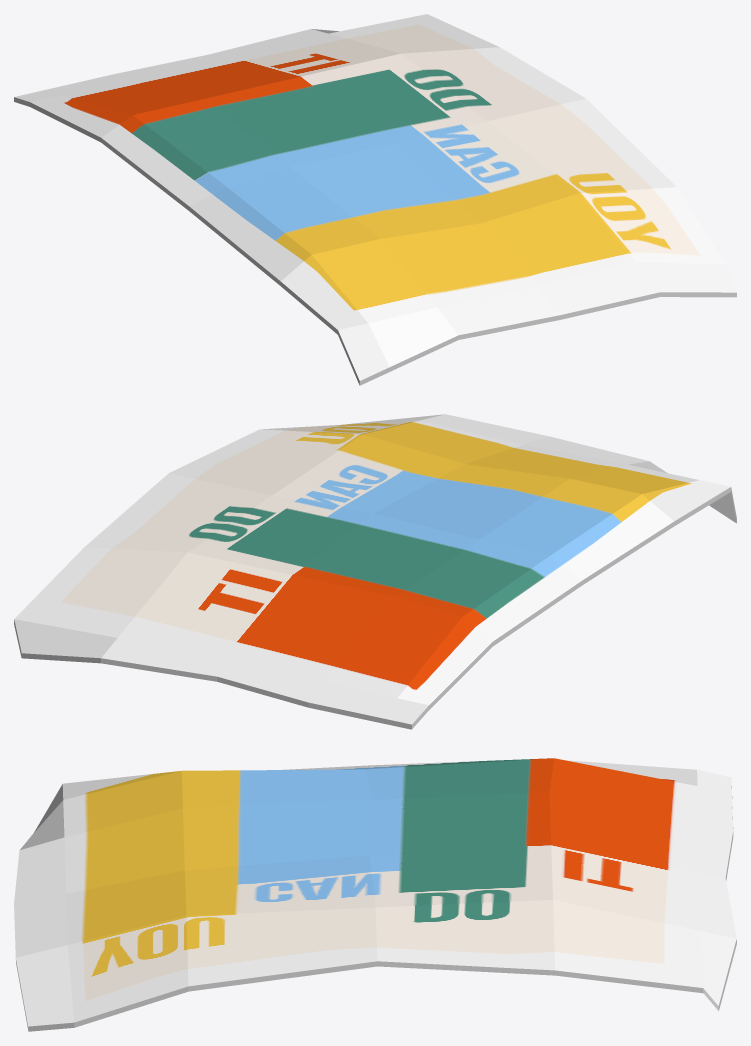
File: poster1.fbx
3 renders of one model, top to bottom at view 1: azimuth 30°, elevation 25°; view 2: azimuth 150°, elevation 25°; view 3: azimuth 270°, elevation 25°, orthographic. The views are drawn at different scales.
Visible parts, largest first — view 1: Plane; view 2: Plane; view 3: Plane.
Boxes of the visible parts, x1,y1,x2,y2 form: Plane: (14, 14, 736, 385); Plane: (14, 414, 736, 729); Plane: (14, 758, 736, 1031).
Bounding box in the file's own units: 149 × 30.66 × 218.
1 material, 1 textured.
